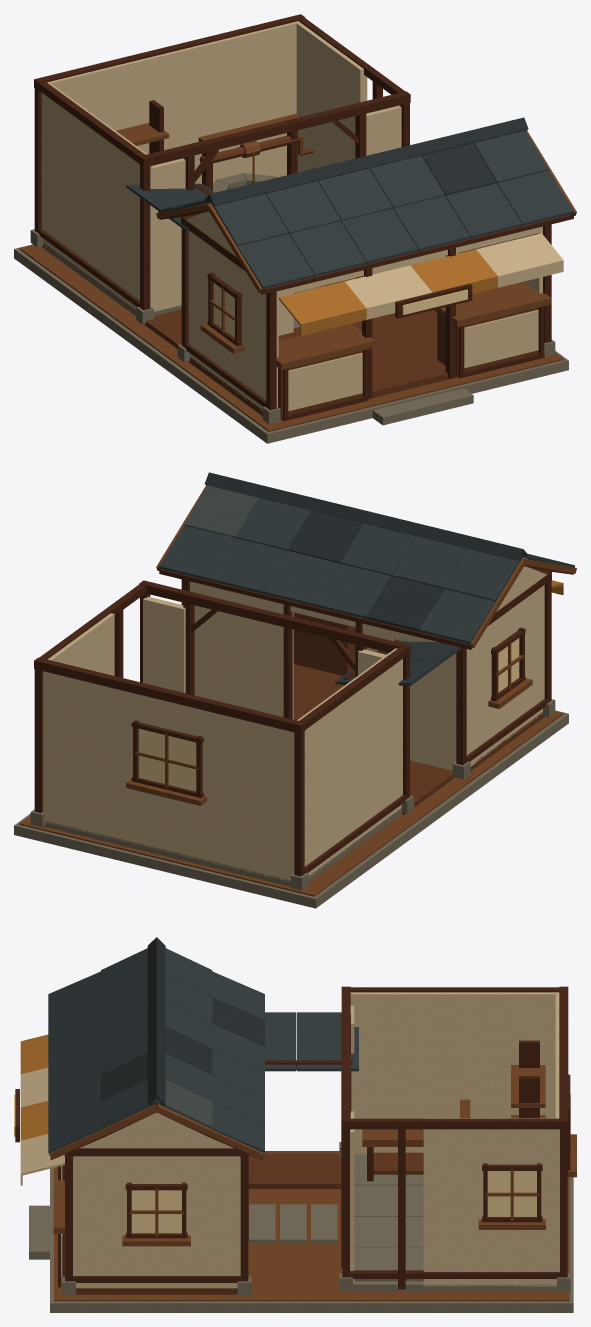
The model's file is front_workshop.glb.
3 views of the same model, one above another, from view 1: azimuth 30°, elevation 25°; view 2: azimuth 150°, elevation 25°; view 3: azimuth 270°, elevation 25° (orthographic). The views are drawn at different scales.
Parts seen in each view (by area): view 1: Rear_Walls, Front_Roof, Front_Walls, Front_Counters, Base, Rear_Frame, Front_Awning, Front_Frame, Rear_Well, Front_Windows, Front_AwningValance, Front_BlankSign (+3 smaller); view 2: Rear_Walls, Front_Roof, Front_Walls, Rear_Frame, Base, Rear_Windows, Front_Frame, Front_Windows, Front_Counters, Link_CoveredWalkway, Court, Front_DoorwayFrame; view 3: Rear_Walls, Front_Roof, Base, Front_Walls, Rear_Frame, Rear_PavedGround, Court, Front_Frame, Link_CoveredWalkway, Rear_Windows, Front_Awning, Front_Windows (+3 smaller).
Part boxes in pixels (<box>): Rear_Walls: <box>41,21,401,315</box>; Front_Roof: <box>156,117,576,294</box>; Front_Walls: <box>188,226,542,420</box>; Front_Counters: <box>276,282,551,421</box>; Base: <box>14,244,568,443</box>; Rear_Frame: <box>30,14,410,324</box>; Front_Awning: <box>279,233,563,326</box>; Front_Frame: <box>177,212,555,424</box>; Rear_Well: <box>198,114,313,192</box>; Front_Windows: <box>200,272,244,353</box>; Front_AwningValance: <box>300,262,563,335</box>; Front_BlankSign: <box>395,284,472,318</box>; Rear_Walls: <box>43,596,402,886</box>; Front_Roof: <box>156,472,576,649</box>; Front_Walls: <box>190,581,544,770</box>; Rear_Frame: <box>30,580,413,890</box>; Base: <box>14,710,568,908</box>; Rear_Windows: <box>126,720,206,805</box>; Front_Frame: <box>181,567,555,779</box>; Front_Windows: <box>488,627,532,708</box>; Front_Counters: <box>293,612,355,675</box>; Link_CoveredWalkway: <box>335,639,461,685</box>; Court: <box>402,760,454,814</box>; Front_DoorwayFrame: <box>283,604,362,719</box>; Rear_Walls: <box>350,992,559,1290</box>; Front_Roof: <box>48,937,264,1160</box>; Base: <box>29,1151,573,1312</box>; Front_Walls: <box>73,1156,240,1294</box>; Rear_Frame: <box>339,986,570,1291</box>; Rear_PavedGround: <box>354,1154,423,1281</box>; Court: <box>248,1153,341,1242</box>; Front_Frame: <box>62,1148,251,1295</box>; Link_CoveredWalkway: <box>265,1012,358,1110</box>; Rear_Windows: <box>478,1074,576,1229</box>; Front_Awning: <box>20,1034,64,1175</box>; Front_Windows: <box>122,1182,190,1246</box>.
Size of the model in its own units: 6.34 by 4.08 by 9.44.
11 materials, 11 textured.
